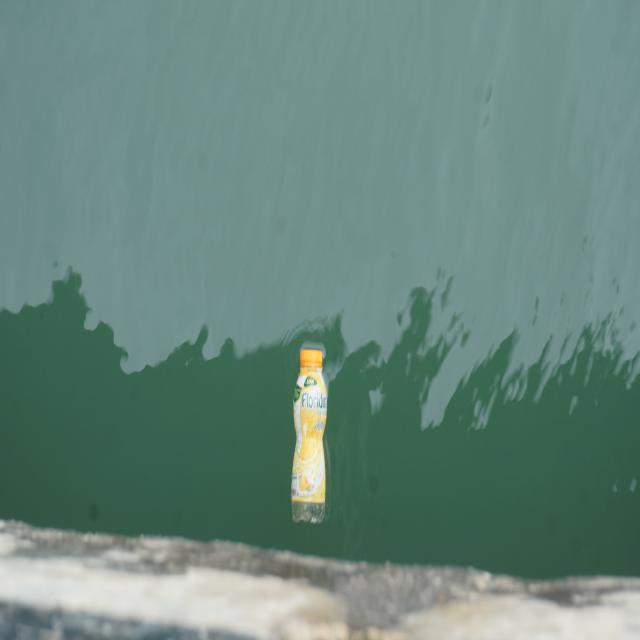Botol Plastik: (290, 342, 334, 530)
